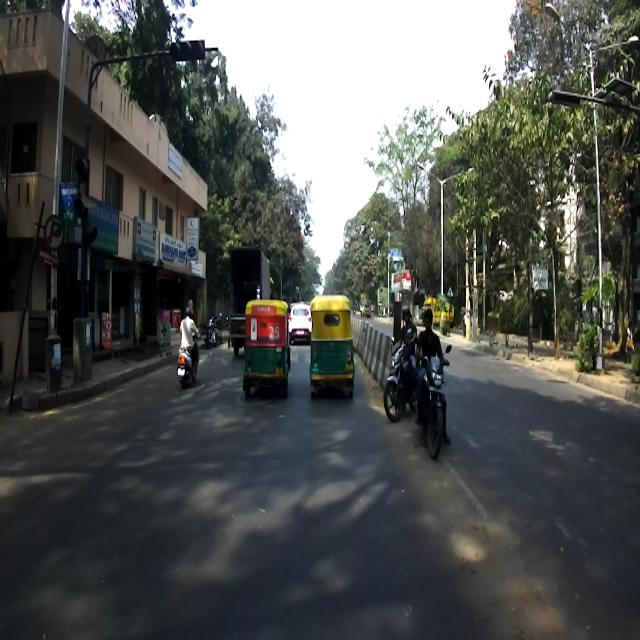auto ahead at: (244, 299, 292, 395), (309, 299, 356, 393)
sign board ahead at: (42, 210, 65, 266)
traffic signal ahead at: (166, 31, 212, 74)
